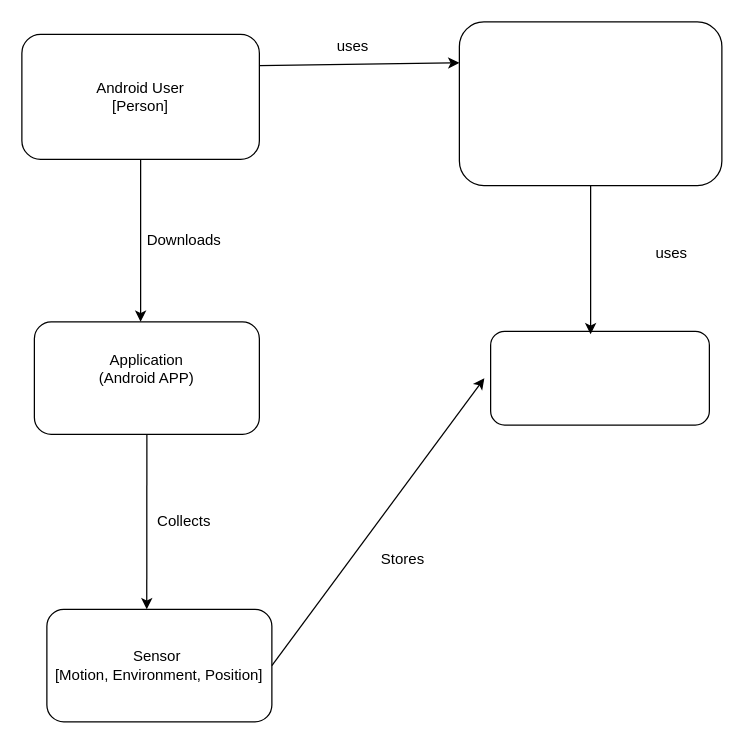
The diagram is 756 pixels wide and 744 high, and some of its shapes have lost their labels. The shapes that lost their labels are listed below. From the top down, each one's centre as x and y in pixels, then its label:
(x=590, y=103): Information Viewing System
(x=599, y=377): Elastic Search
